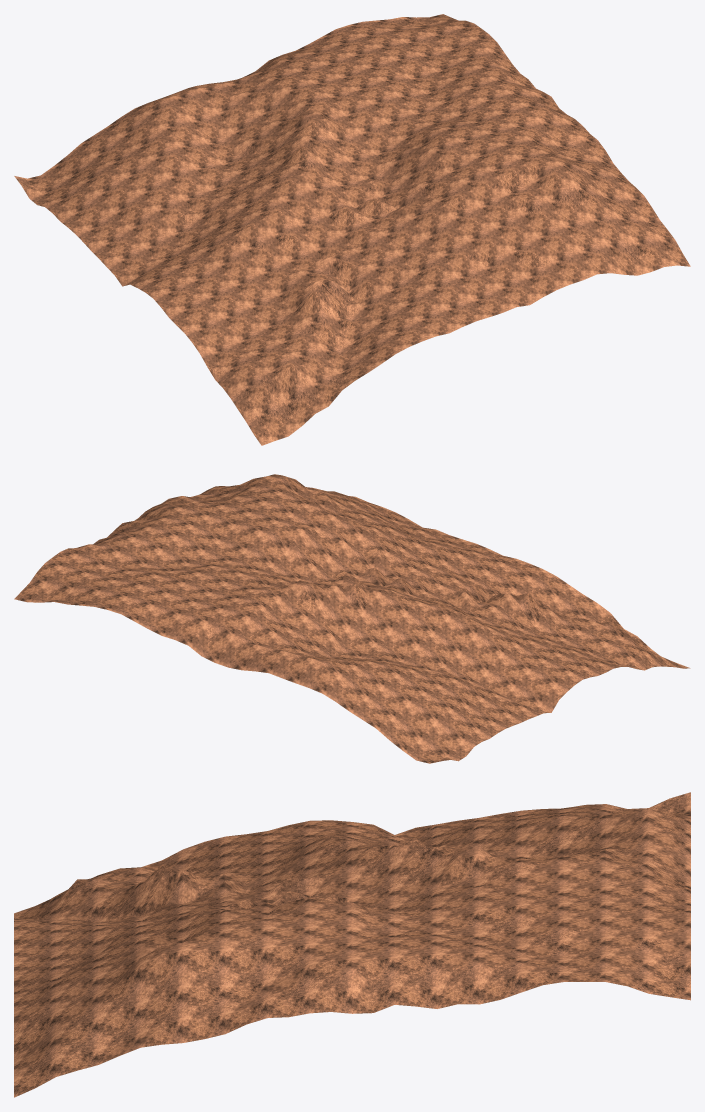
Rendered from terrain_05_03.dae.
3 views of the same model, one above another, from view 1: azimuth 30°, elevation 25°; view 2: azimuth 150°, elevation 25°; view 3: azimuth 270°, elevation 25° (orthographic). The views are drawn at different scales.
Visible parts, largest first — view 1: terrain_05_03-node; view 2: terrain_05_03-node; view 3: terrain_05_03-node.
Part boxes in pixels (left/top/right/bottom): terrain_05_03-node: left=14, top=14, right=690, bottom=445; terrain_05_03-node: left=14, top=474, right=690, bottom=763; terrain_05_03-node: left=14, top=792, right=690, bottom=1097.
Bounding box in the file's own units: 128 × 128 × 45.53.
1 material, 1 textured.
